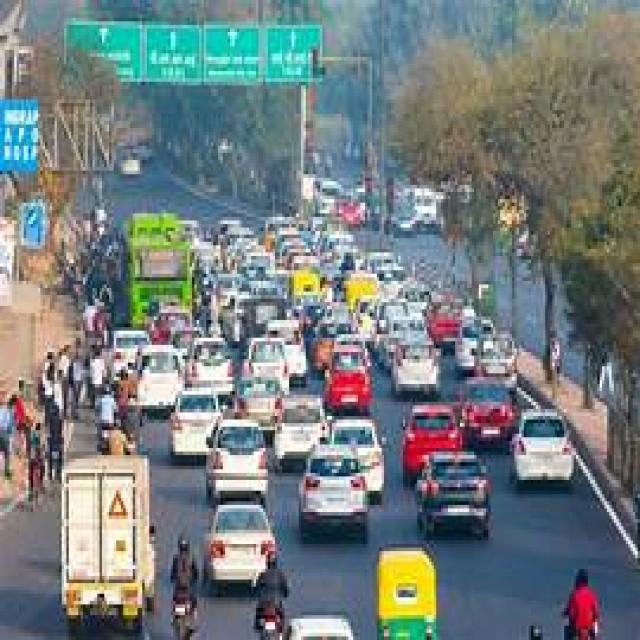Auto: (377, 548, 436, 638)
Bus: (129, 214, 191, 327)
Car: (130, 272, 575, 541), (205, 509, 279, 586)
